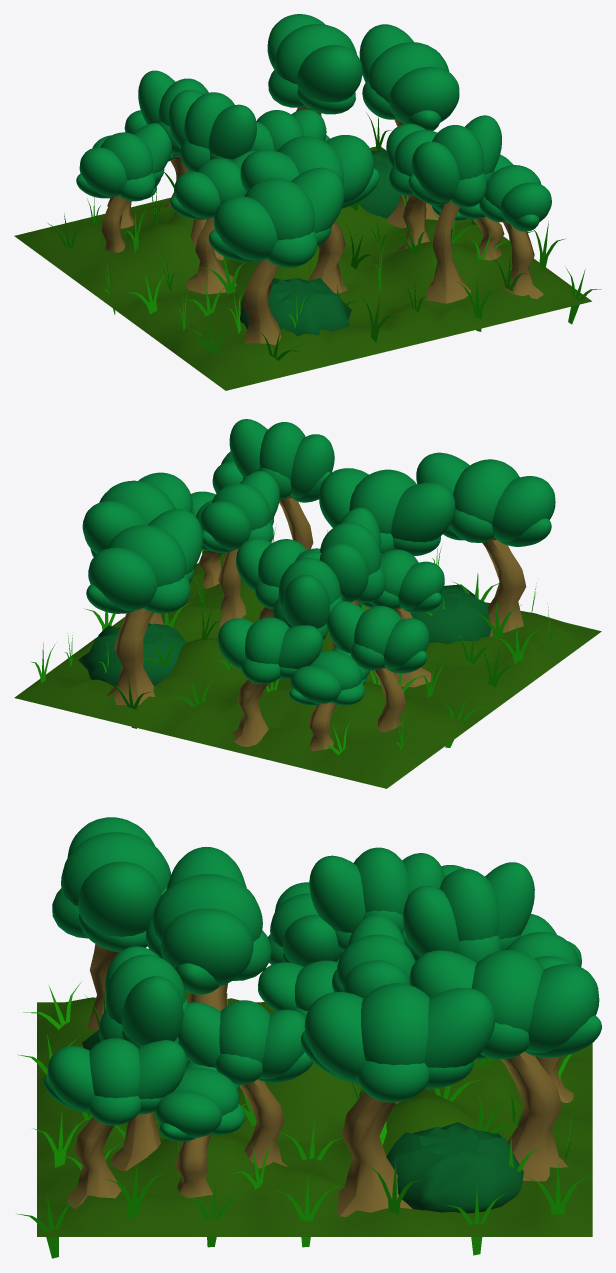
File: UPDATEDnonwalkingTile.fbx
The picture shows the model from 3 angles, top to bottom: view 1: azimuth 30°, elevation 25°; view 2: azimuth 150°, elevation 25°; view 3: azimuth 270°, elevation 25°; orthographic projection. The views are drawn at different scales.
Visible parts, largest first — view 1: nonwalkingFloor, pSphere2 (×7), pSphere3 (×6), pSphere1 (×5), treeTrunk (×6), treeCluster1:pSphere3 (×2), treeCluster1:pSphere2 (×2), treeCluster2:pSphere2 (×3), treeCluster1:Bush, treeCluster1:treeTrunk (×2), treeCluster1:pSphere1 (×2), treeCluster2:pSphere3 (×3) (+8 smaller); view 2: nonwalkingFloor, pSphere2 (×8), pSphere3 (×7), pSphere1 (×8), treeTrunk (×7), treeCluster1:pSphere2 (×2), treeCluster1:pSphere3 (×2), treeCluster2:pSphere3 (×3), treeCluster1:pSphere1 (×2), treeCluster2:pSphere2 (×3), Bush, treeCluster1:Bush (+10 smaller); view 3: nonwalkingFloor, pSphere2 (×8), pSphere3 (×7), treeTrunk (×7), pSphere1 (×6), Bush, treeCluster1:pSphere2 (×2), treeCluster2:pSphere2 (×4), treeCluster1:pSphere1 (×2), treeCluster2:pSphere1 (×3), treeCluster1:pSphere3 (×2), pSphere7 (×3) (+8 smaller).
Boxes of the visible parts, <box> form: nonwalkingFloor: <box>14,146,591,390</box>; pSphere2 (×7): <box>101,24,541,210</box>; pSphere3 (×6): <box>79,14,551,225</box>; pSphere1 (×5): <box>134,24,501,174</box>; treeTrunk (×6): <box>101,119,543,303</box>; treeCluster1:pSphere3 (×2): <box>214,135,373,260</box>; treeCluster1:pSphere2 (×2): <box>244,136,343,240</box>; treeCluster2:pSphere2 (×3): <box>184,92,303,203</box>; treeCluster1:Bush: <box>240,277,351,336</box>; treeCluster1:treeTrunk (×2): <box>242,221,347,344</box>; treeCluster1:pSphere1 (×2): <box>240,150,344,233</box>; treeCluster2:pSphere3 (×3): <box>169,90,326,218</box>; nonwalkingFloor: <box>14,552,601,788</box>; pSphere2 (×8): <box>99,422,401,690</box>; pSphere3 (×7): <box>88,434,429,704</box>; pSphere1 (×8): <box>82,419,364,668</box>; treeTrunk (×7): <box>106,495,405,751</box>; treeCluster1:pSphere2 (×2): <box>349,459,519,533</box>; treeCluster1:pSphere3 (×2): <box>319,468,555,541</box>; treeCluster2:pSphere3 (×3): <box>236,538,444,609</box>; treeCluster1:pSphere1 (×2): <box>391,452,469,542</box>; treeCluster2:pSphere2 (×3): <box>258,522,418,596</box>; Bush: <box>78,623,187,686</box>; treeCluster1:Bush: <box>410,584,490,644</box>; nonwalkingFloor: <box>37,991,592,1236</box>; pSphere2 (×8): <box>89,868,579,1115</box>; pSphere3 (×7): <box>47,885,599,1138</box>; treeTrunk (×7): <box>67,1051,573,1216</box>; pSphere1 (×6): <box>122,862,534,1098</box>; Bush: <box>386,1122,523,1213</box>; treeCluster1:pSphere2 (×2): <box>61,832,262,941</box>; treeCluster2:pSphere2 (×4): <box>270,847,415,1010</box>; treeCluster1:pSphere1 (×2): <box>78,847,246,936</box>; treeCluster2:pSphere1 (×3): <box>282,855,405,966</box>; treeCluster1:pSphere3 (×2): <box>67,817,253,986</box>; pSphere7 (×3): <box>87,935,501,1125</box>.
Bounding box in the file's own units: 24.71 × 12.26 × 25.3.
